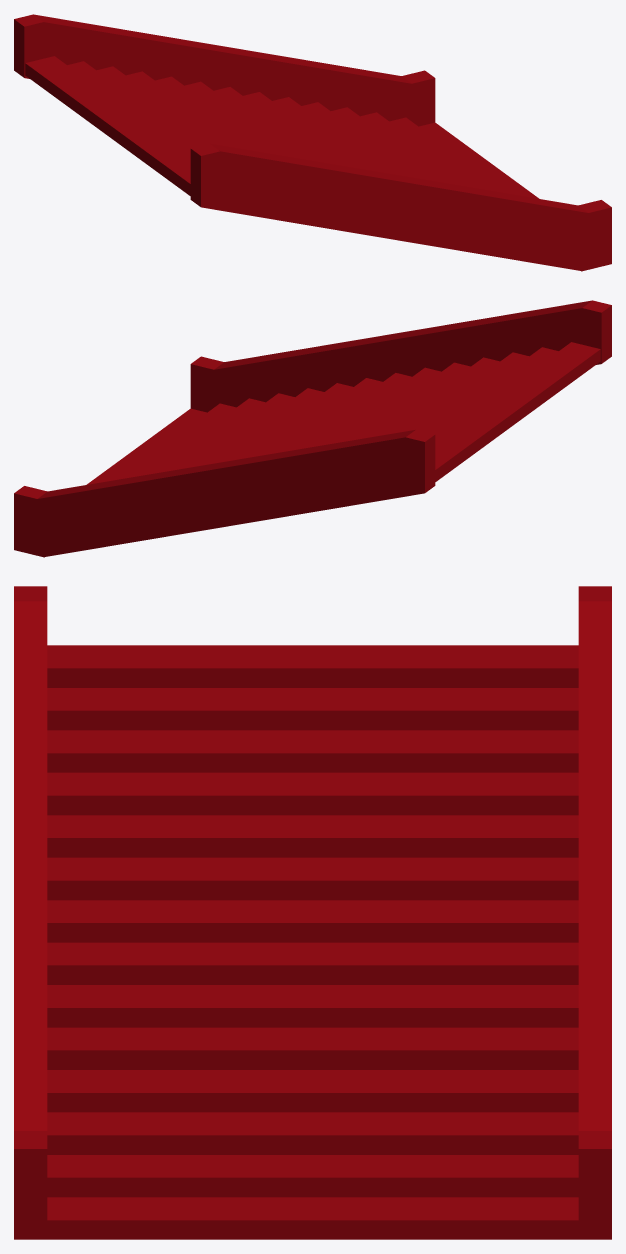
The model's file is stairs_y_up.gltf.
3 views of the same model, one above another, from view 1: azimuth 30°, elevation 25°; view 2: azimuth 150°, elevation 25°; view 3: azimuth 270°, elevation 25° (orthographic). The views are drawn at different scales.
Visible parts, largest first — view 1: Cube.021; view 2: Cube.021; view 3: Cube.021.
Boxes of the visible parts, left/top/right/bottom form: Cube.021: left=14, top=14, right=611, bottom=271; Cube.021: left=14, top=300, right=611, bottom=557; Cube.021: left=14, top=586, right=611, bottom=1239.
Size of the model in its own units: 7.02 by 3.4 by 5.53.
